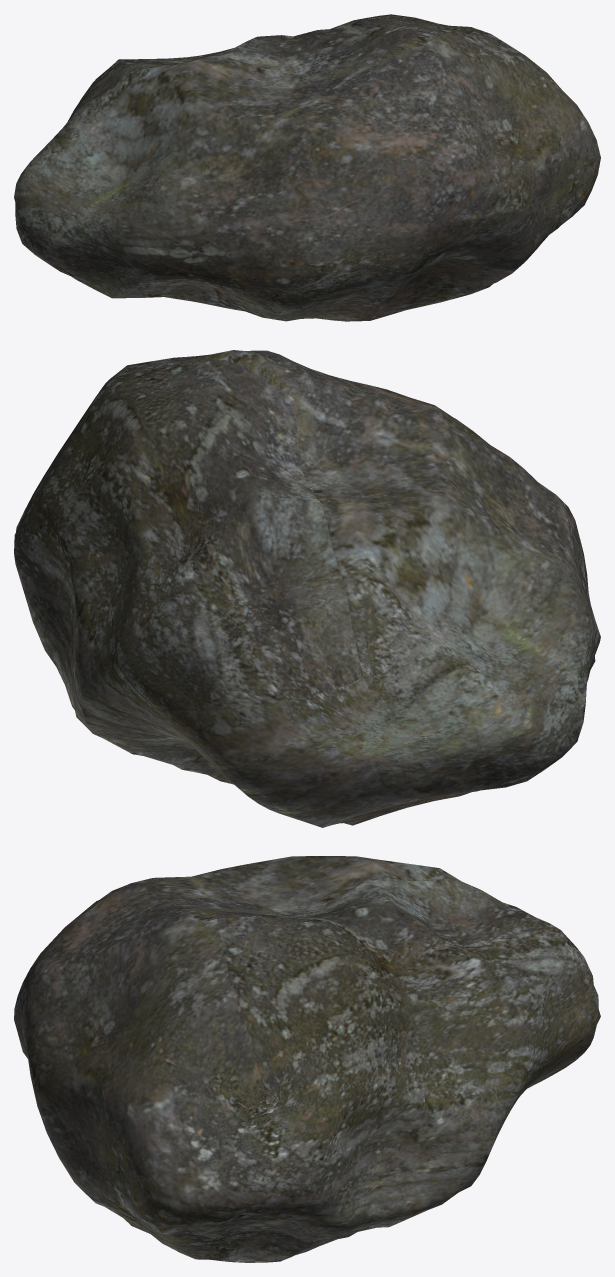
File: L_Rock.fbx
3 renders of one model, top to bottom at view 1: azimuth 30°, elevation 25°; view 2: azimuth 150°, elevation 25°; view 3: azimuth 270°, elevation 25°, orthographic. The views are drawn at different scales.
Parts seen in each view (by area): view 1: Cube; view 2: Cube; view 3: Cube.
Part boxes in pixels (<box>): Cube: <box>14,14,600,321</box>; Cube: <box>14,350,600,827</box>; Cube: <box>14,856,600,1262</box>.
Bounding box in the file's own units: 449 × 239 × 382.
1 material, 1 textured.
